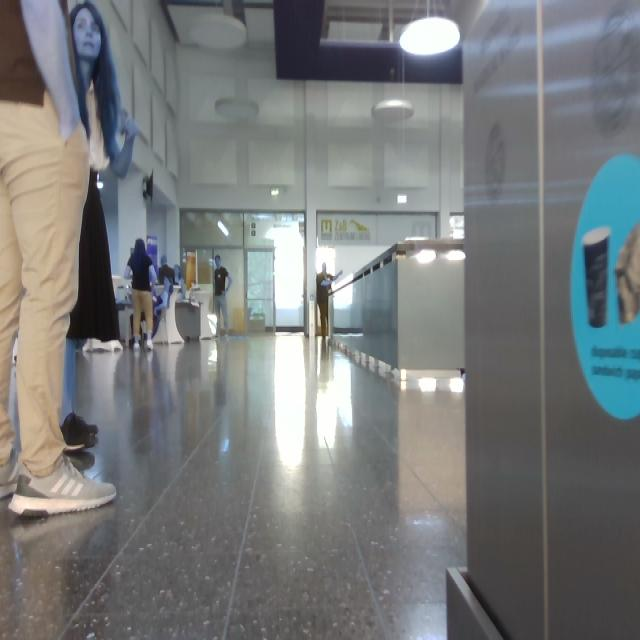door: (245, 214, 306, 332)
light bulb: (583, 228, 610, 328), (400, 17, 460, 57), (216, 98, 259, 121), (373, 100, 413, 122), (219, 220, 229, 237)
person: (1, 1, 116, 514), (62, 1, 139, 449), (128, 240, 157, 348), (154, 257, 175, 342), (317, 264, 335, 338), (215, 256, 232, 333)
tiled floor: (1, 336, 502, 640)
trash bin: (464, 1, 640, 640)
